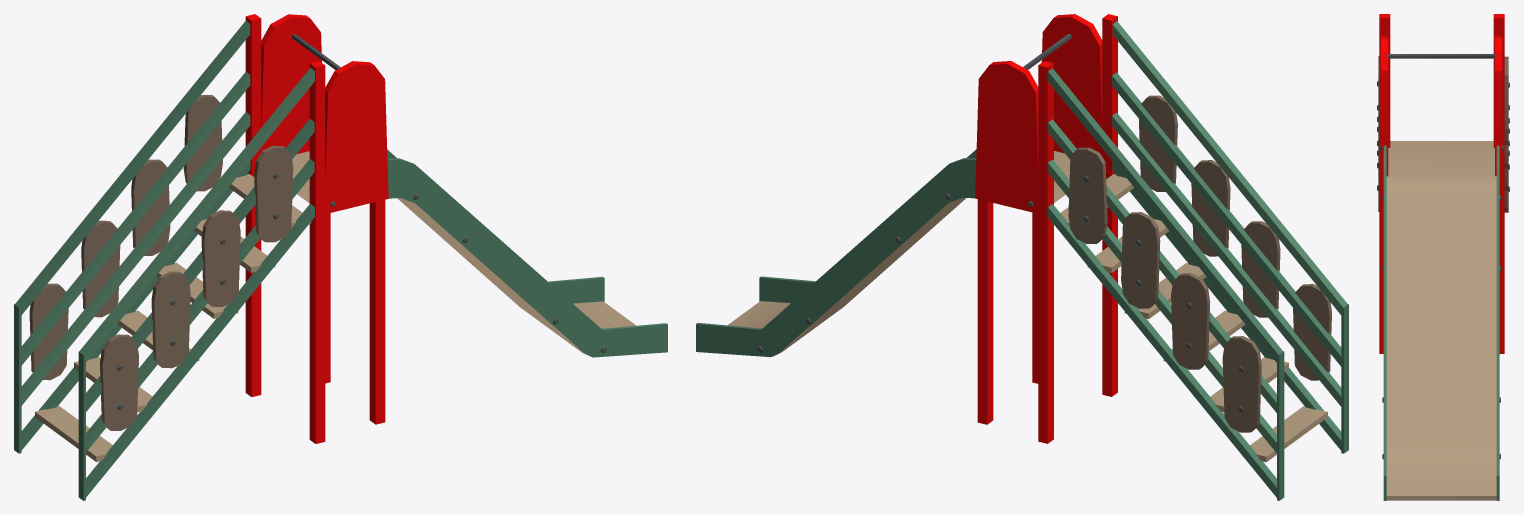
File: SM_Playground_05.fbx
3 renders of one model, left to right at view 1: azimuth 30°, elevation 25°; view 2: azimuth 150°, elevation 25°; view 3: azimuth 270°, elevation 25°, orthographic. The views are drawn at different scales.
Parts seen in each view (by area): view 1: SM_Playground_05; view 2: SM_Playground_05; view 3: SM_Playground_05.
Part boxes in pixels (left/top/right/bottom): SM_Playground_05: left=14, top=14, right=667, bottom=500; SM_Playground_05: left=696, top=14, right=1348, bottom=500; SM_Playground_05: left=1377, top=14, right=1509, bottom=500.
Size of the model in its own units: 304 by 187 by 66.94.
1 material, 1 textured.
